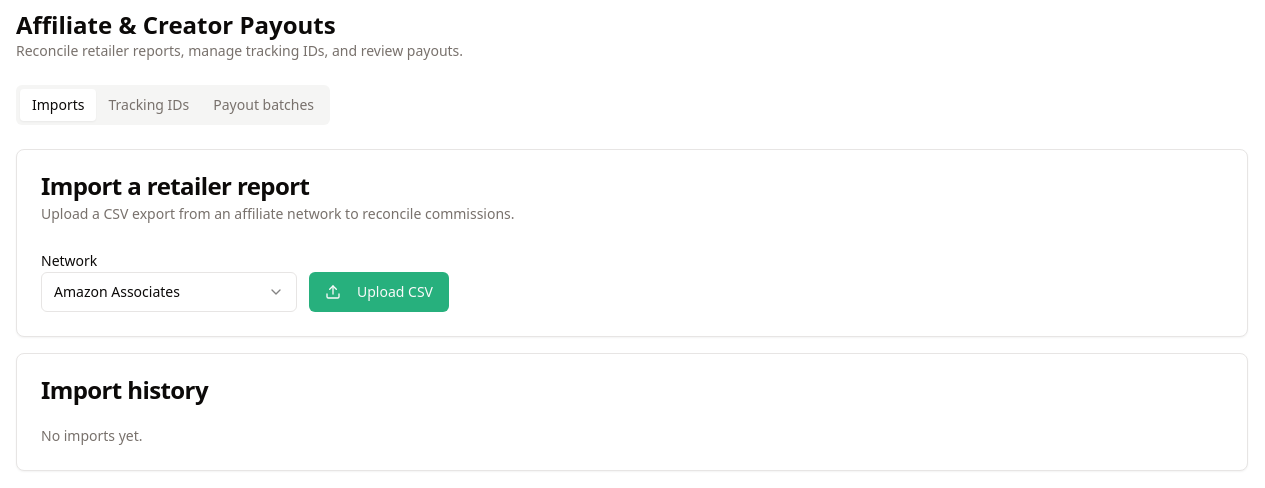
Scenario: AffiliateAdmin › Payout batches tab › renders batches with a formatted dollar amount, and only shows Retry for Failed batches
This screenshot has width=1265, height=488.
Click the tab "Payout batches".
click(264, 105)  # box x1=201 y1=89 x2=326 y2=121
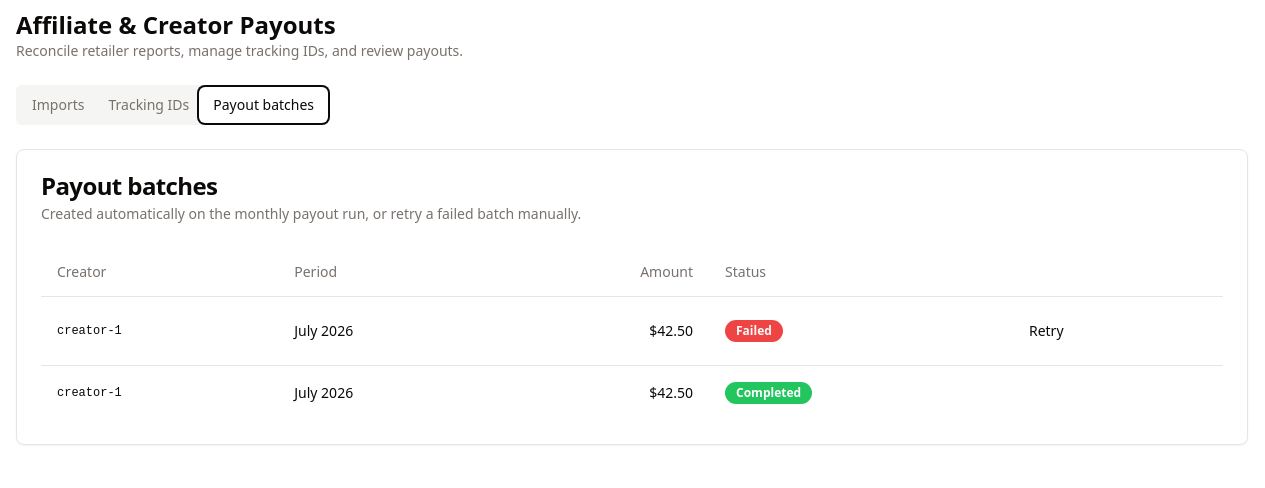
Result: the text "Created automatically on the monthly payout run" is shown at x1=41 y1=204 x2=581 y2=223
Result: the text "July 2026" is shown 2 times at x1=278 y1=296 x2=501 y2=365; x1=278 y1=365 x2=501 y2=420
Result: the text "$42.50" is shown 2 times at x1=501 y1=296 x2=709 y2=365; x1=501 y1=365 x2=709 y2=420
